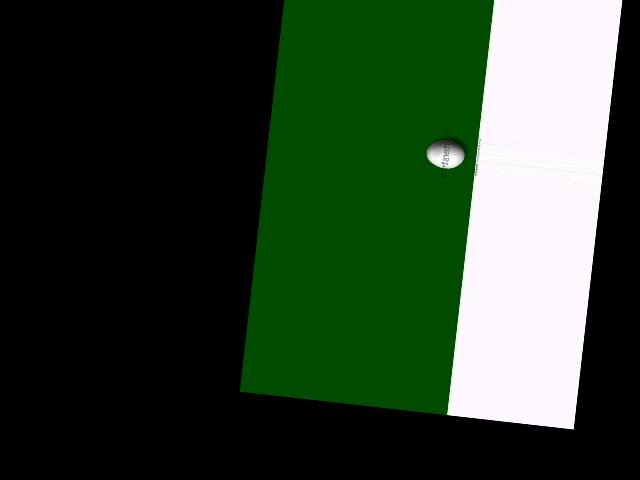egg: (425, 137, 466, 170)
